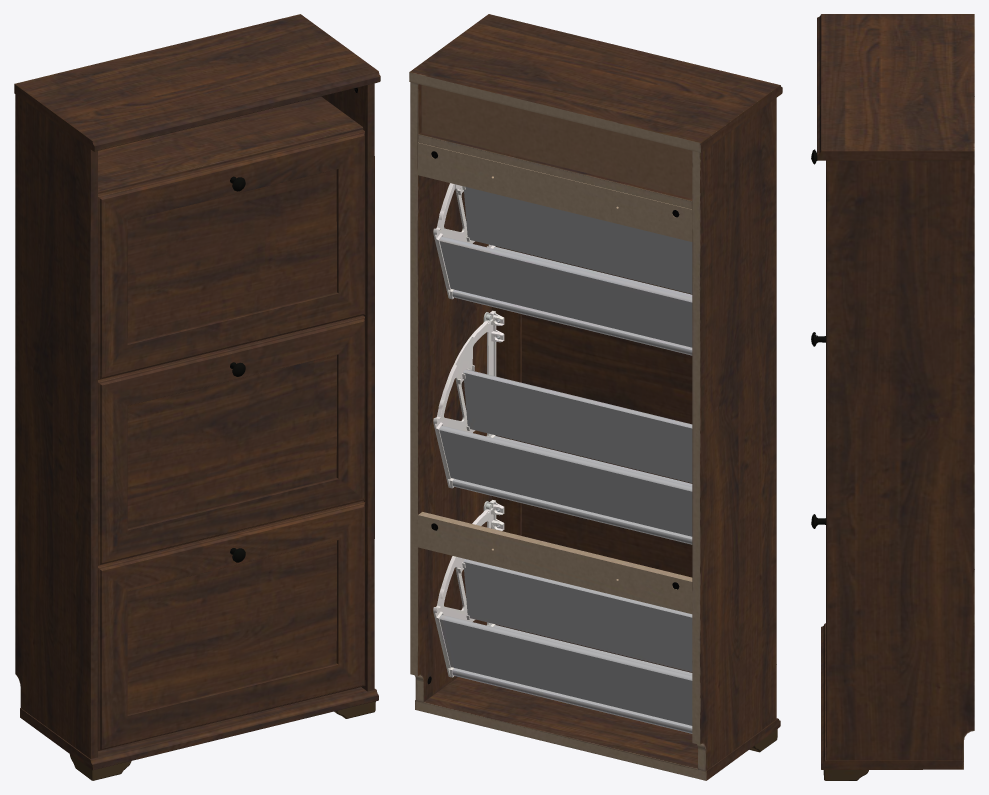
The picture shows the model from 3 angles, left to right: view 1: azimuth 30°, elevation 25°; view 2: azimuth 150°, elevation 25°; view 3: azimuth 270°, elevation 25°; orthographic projection. The views are drawn at different scales.
Parts seen in each view (by area): view 1: model; view 2: model; view 3: model.
Boxes of the visible parts, x1,y1,x2,y2 form: model: [14, 14, 380, 780]; model: [409, 14, 782, 780]; model: [811, 14, 974, 780].
Size of the model in its own units: 0.6042 by 1.29 by 0.3046.
1 material, 1 textured.
